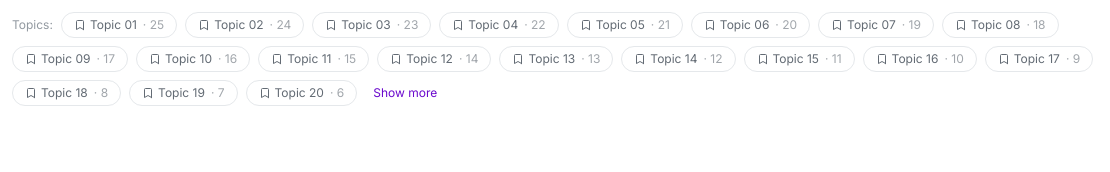
Scenario: TopicFilterBar — chip rendering and pagination › clicking Show more reveals all 25 topics (5 more shown)
The width and height of the screenshot is (1110, 172).
Step 1. Click the button "Show more" → {"x": 405, "y": 93}, box 373,85 -> 437,101
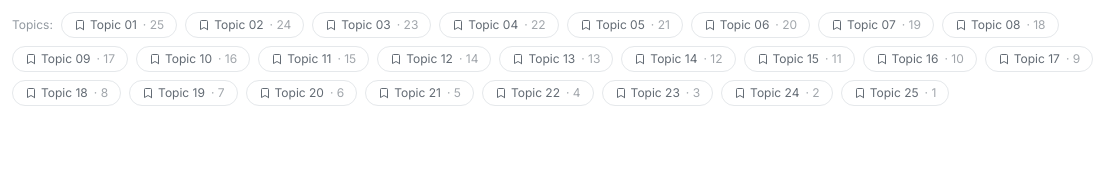
Expected: the number of buttons with test id "topic-filter-chip" is 25
